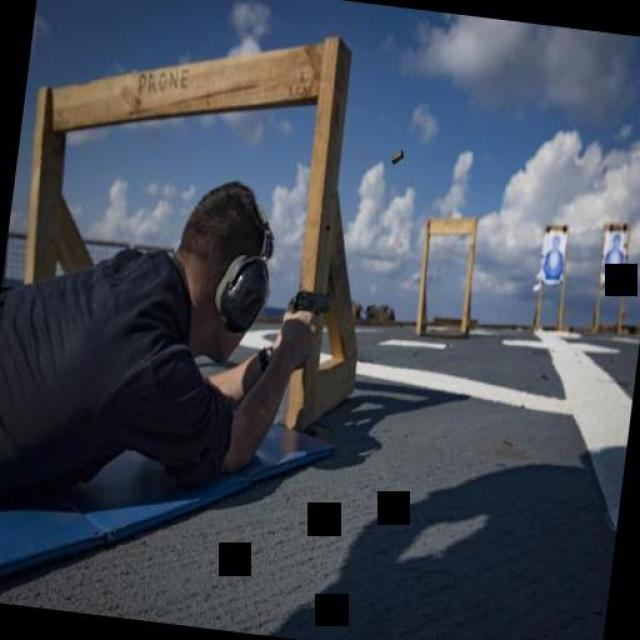gun: (284, 279, 334, 326)
